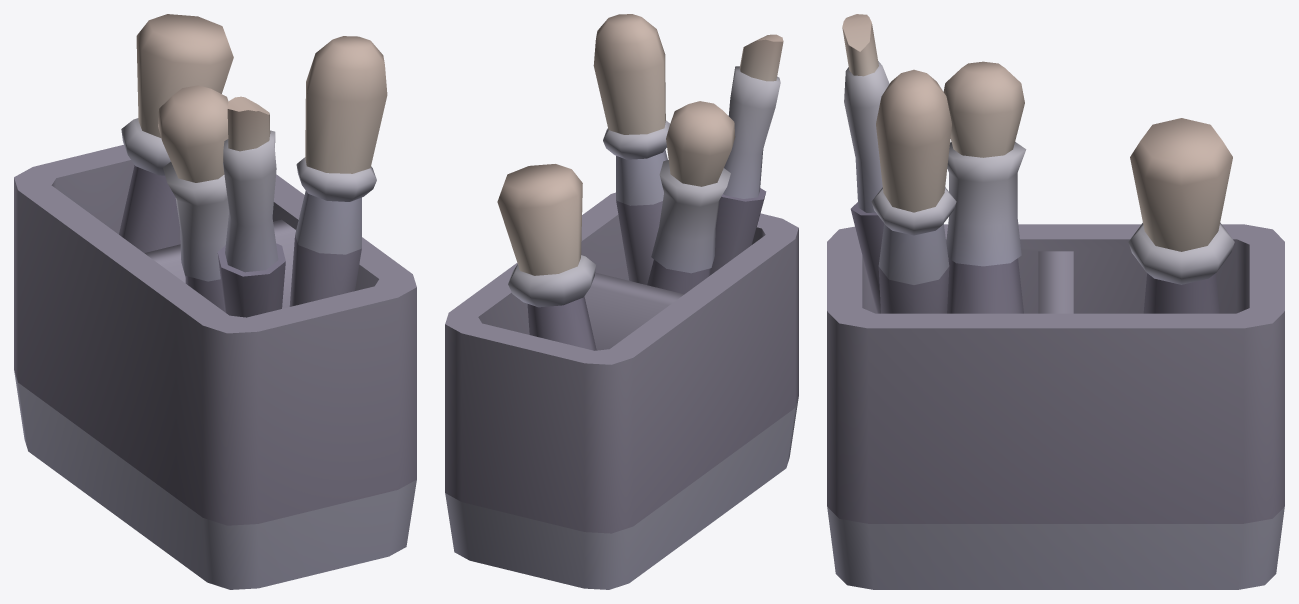
Rendered from makeup-display-cup-double-brushes.glb.
3 renders of one model, left to right at view 1: azimuth 30°, elevation 25°; view 2: azimuth 150°, elevation 25°; view 3: azimuth 270°, elevation 25°, orthographic. The views are drawn at different scales.
Parts seen in each view (by area): view 1: makeup-display-cup-double-brushes; view 2: makeup-display-cup-double-brushes; view 3: makeup-display-cup-double-brushes.
Boxes of the visible parts, bbox=[...] form: makeup-display-cup-double-brushes: bbox=[14, 14, 416, 589]; makeup-display-cup-double-brushes: bbox=[445, 14, 798, 589]; makeup-display-cup-double-brushes: bbox=[827, 14, 1284, 589].
Bounding box in the file's own units: 0.183 × 0.406 × 0.3397.
